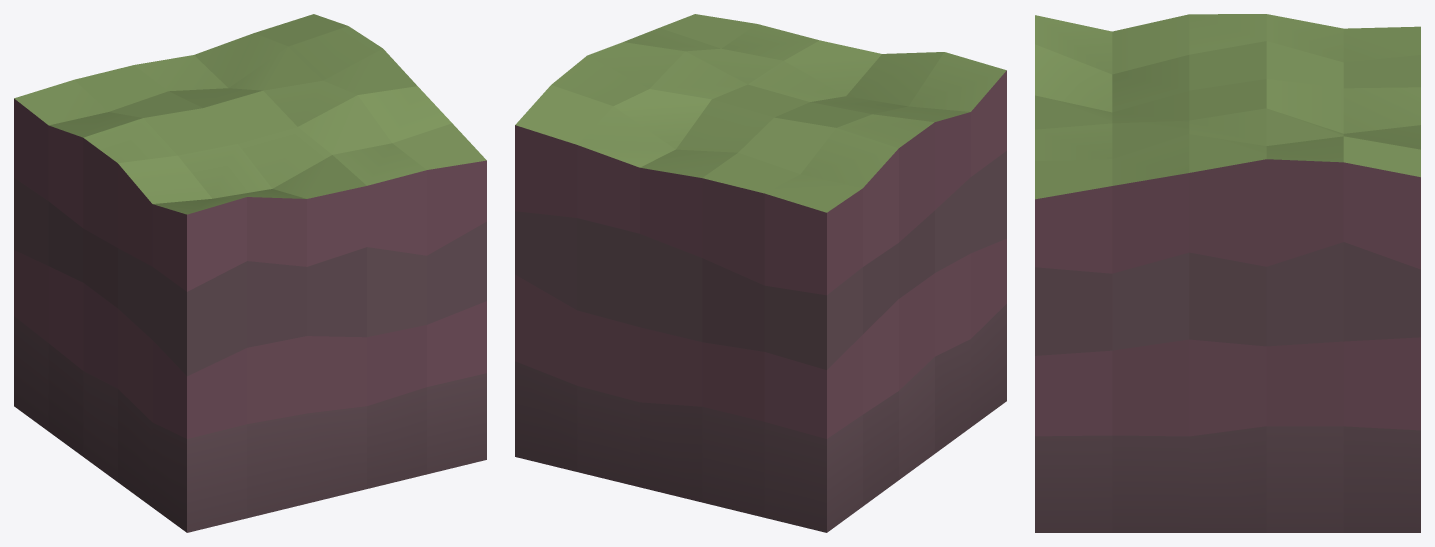
The model's file is roca_relleno.glb.
The picture shows the model from 3 angles, left to right: view 1: azimuth 30°, elevation 25°; view 2: azimuth 150°, elevation 25°; view 3: azimuth 270°, elevation 25°; orthographic projection. The views are drawn at different scales.
Parts seen in each view (by area): view 1: propforge-cuartos-roca_relleno; view 2: propforge-cuartos-roca_relleno; view 3: propforge-cuartos-roca_relleno.
Boxes of the visible parts, x1,y1,x2,y2 form: propforge-cuartos-roca_relleno: [14, 14, 486, 532]; propforge-cuartos-roca_relleno: [515, 14, 1006, 532]; propforge-cuartos-roca_relleno: [1035, 14, 1420, 532].
Bounding box in the file's own units: 1 × 1.07 × 1.
